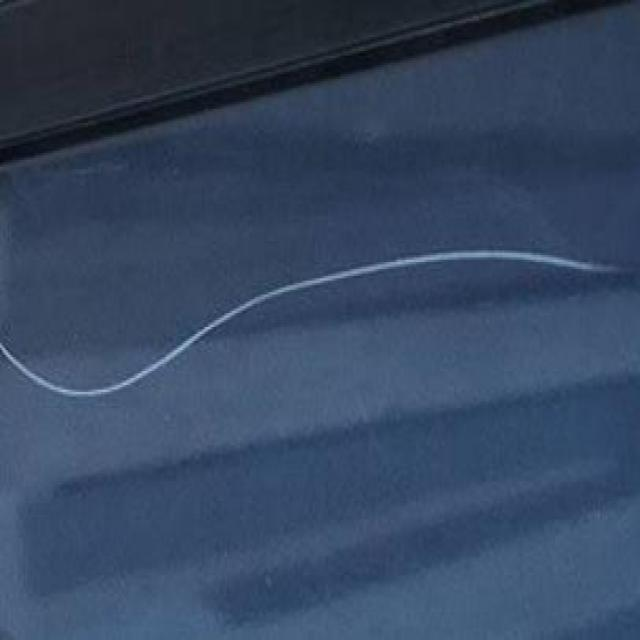scratch: (0, 241, 629, 415)
